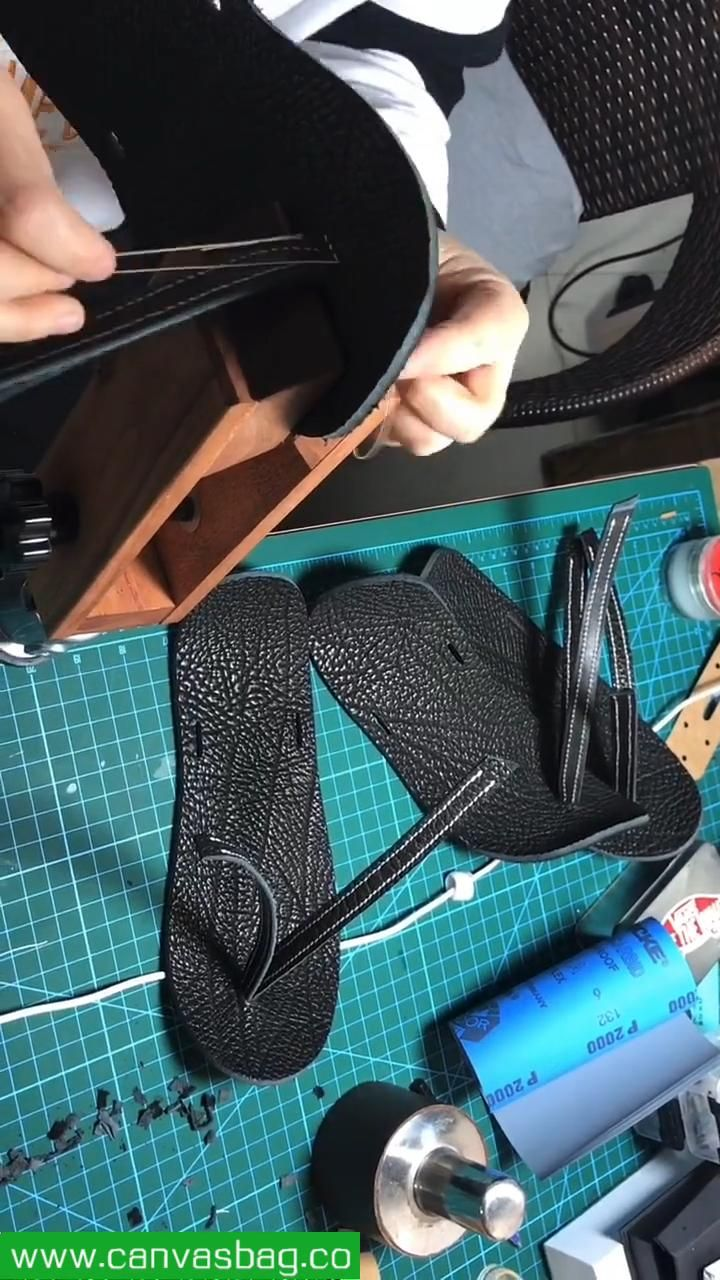cuero: (161, 545, 701, 1081)
